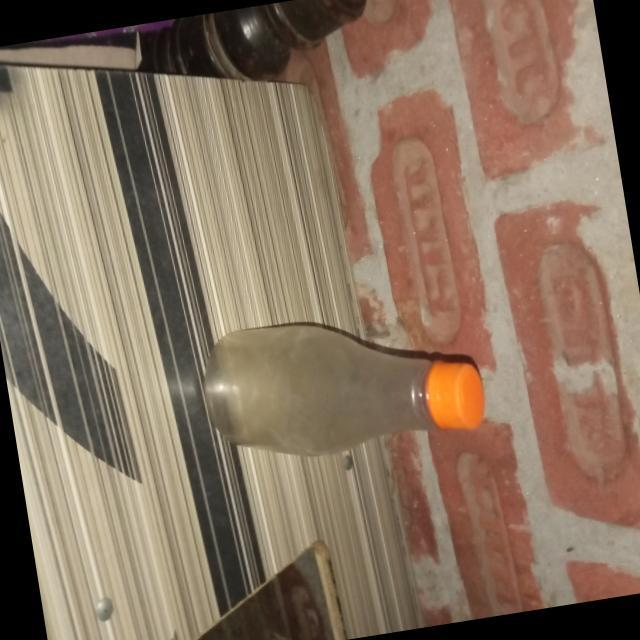good: (188, 285, 494, 486)
